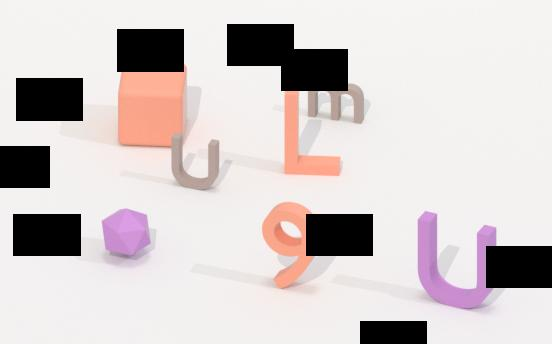9: (260, 199, 324, 292)
dagiac: (101, 207, 153, 258)
hop: (117, 57, 190, 149)
l: (283, 84, 343, 179)
m: (309, 75, 366, 127)
u: (415, 208, 499, 310), (169, 130, 223, 193)
